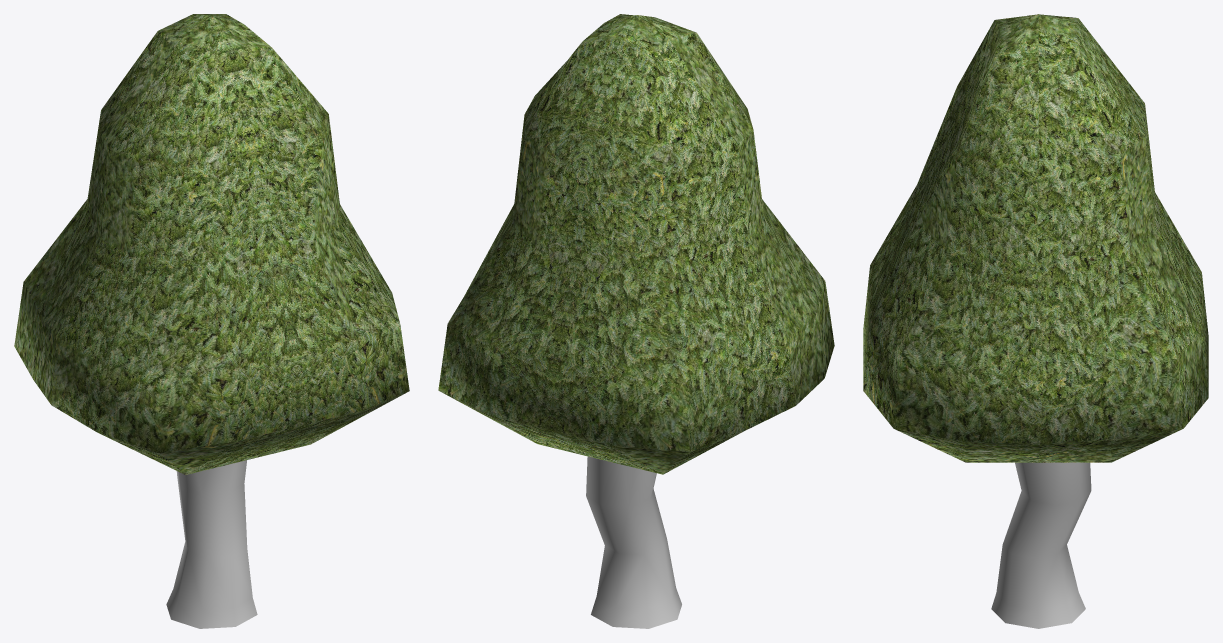
The model's file is arbol.dae.
3 views of the same model, side by side, from view 1: azimuth 30°, elevation 25°; view 2: azimuth 150°, elevation 25°; view 3: azimuth 270°, elevation 25° (orthographic).
Parts seen in each view (by area): view 1: arbol; view 2: arbol; view 3: arbol.
Boxes of the visible parts, x1,y1,x2,y2 form: arbol: (14, 14, 409, 628); arbol: (438, 14, 834, 628); arbol: (863, 14, 1208, 628).
Bounding box in the file's own units: 4.03 × 3.76 × 7.14.
